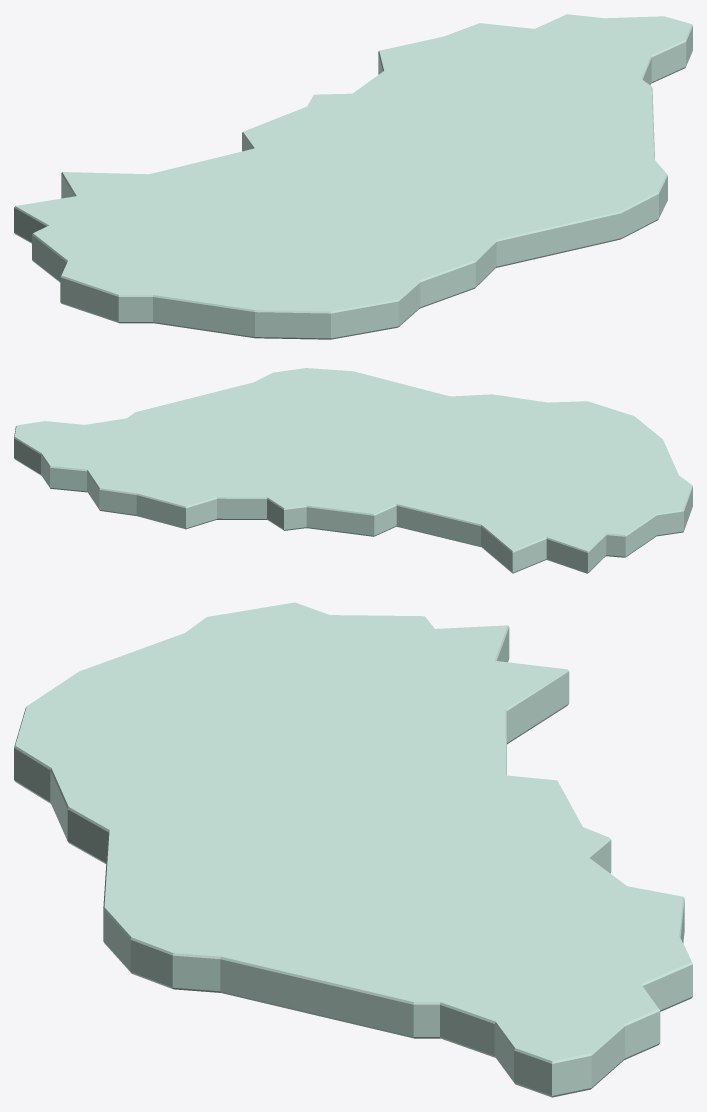
The model's file is HUN.glb.
3 renders of one model, top to bottom at view 1: azimuth 30°, elevation 25°; view 2: azimuth 150°, elevation 25°; view 3: azimuth 270°, elevation 25°, orthographic. The views are drawn at different scales.
Size of the model in its own units: 1.85 by 0.068 by 1.15.
